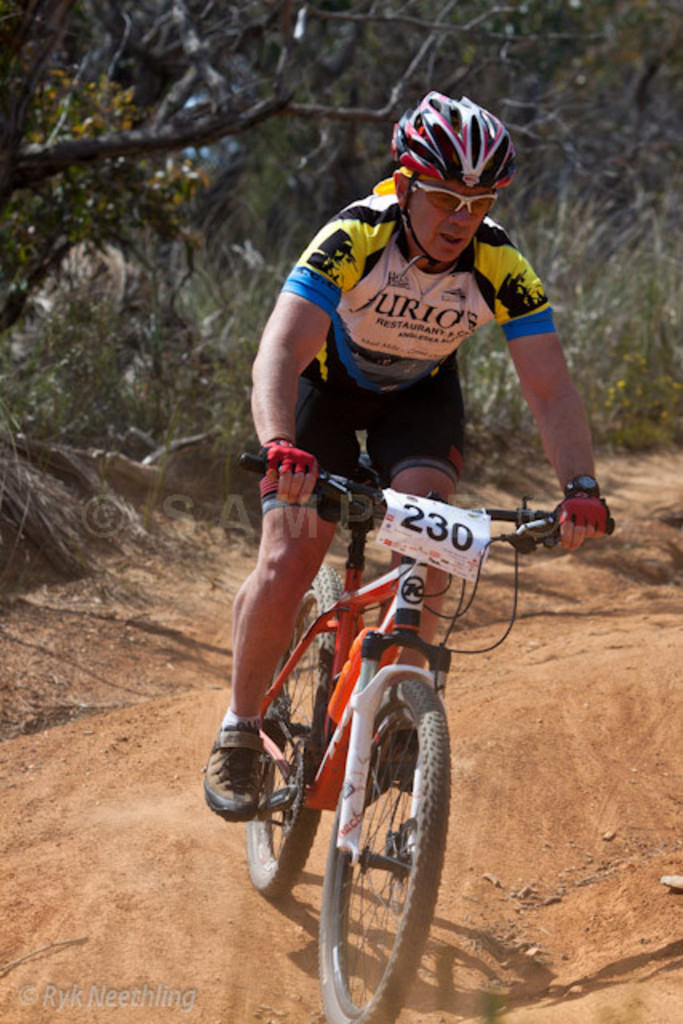Bike: (203, 434, 664, 1002)
